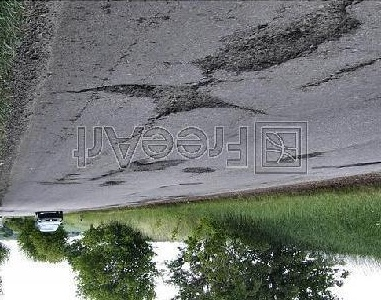pothole: (192, 0, 364, 76), (98, 84, 238, 118), (123, 157, 187, 173), (182, 166, 216, 175)
